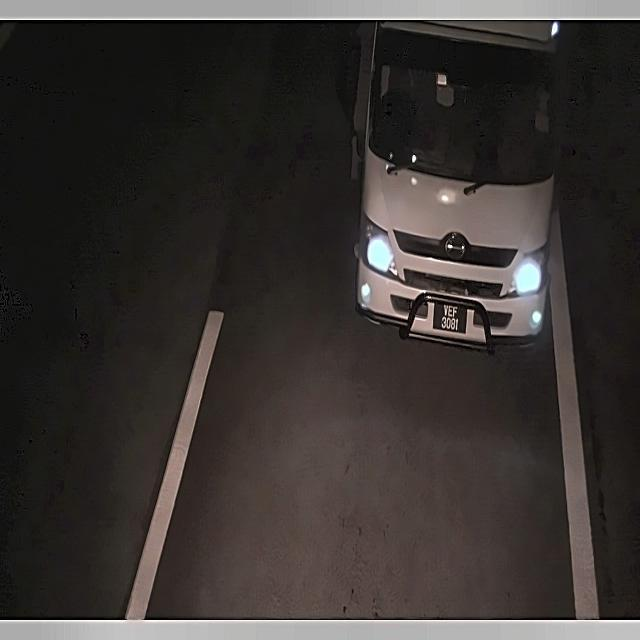car: (430, 297, 470, 338)
